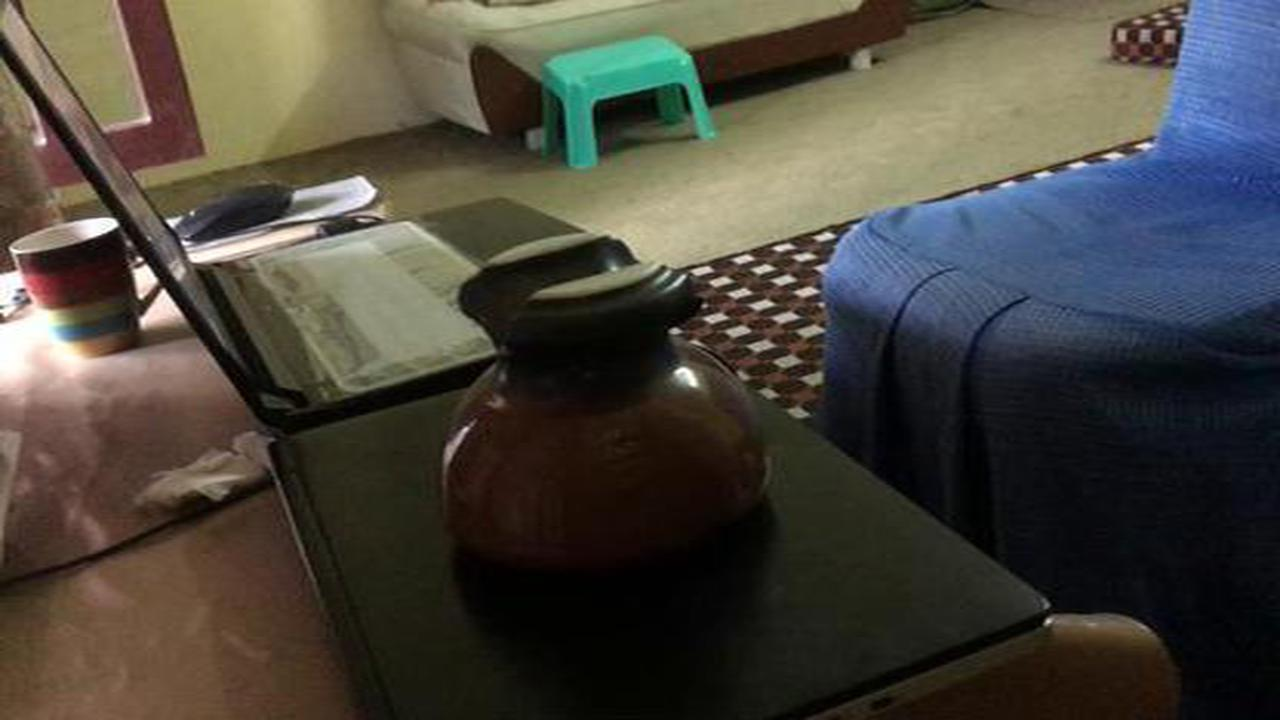insulator_pin: (428, 224, 788, 605)
